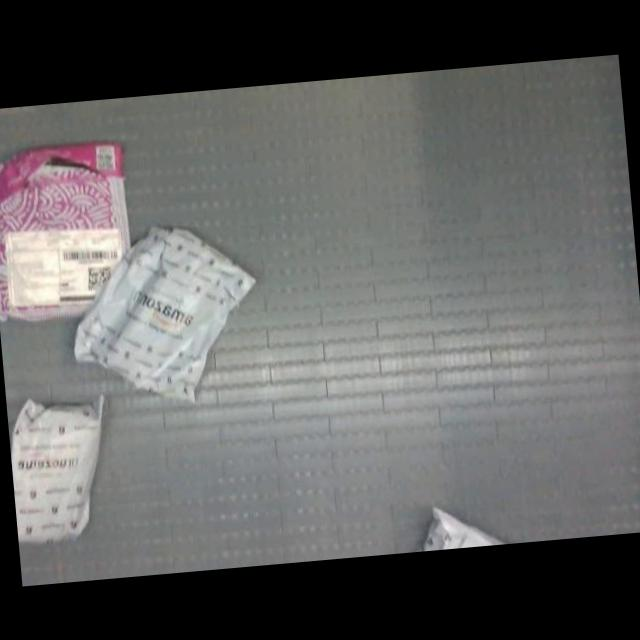mailer: (75, 227, 254, 400), (0, 142, 129, 320), (11, 395, 102, 544)
